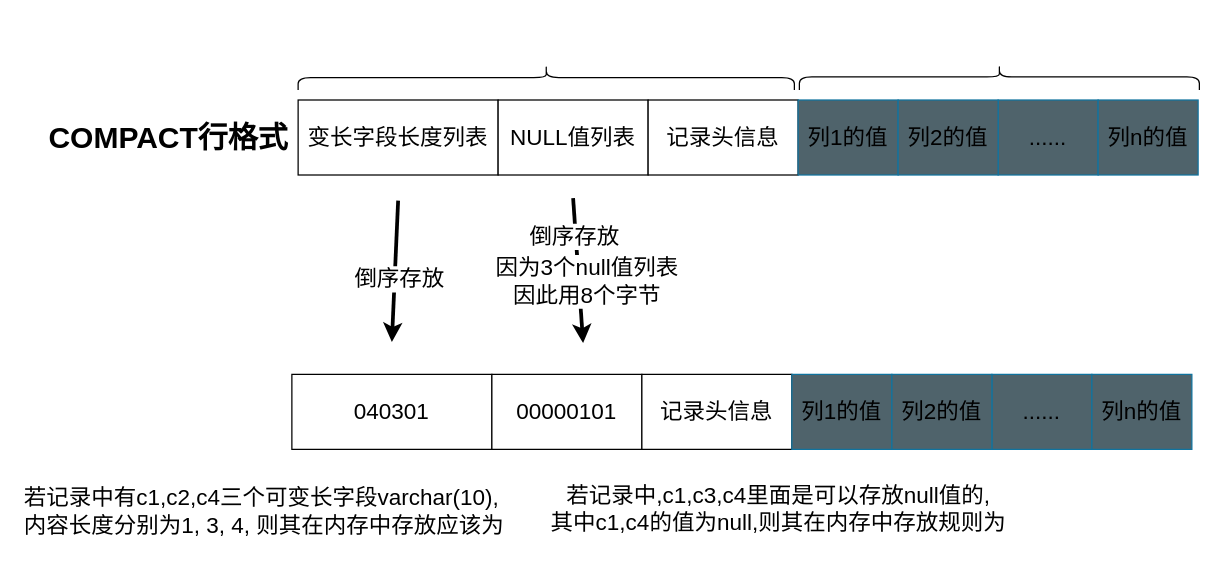
Image size: 1221x569. Some labels were removed from this diagram. The box of each missing label's shape, as (x1, y1, x2, y2) in pixels:
真实数据: (798, 64, 1199, 90)
额外信息: (297, 64, 794, 90)
